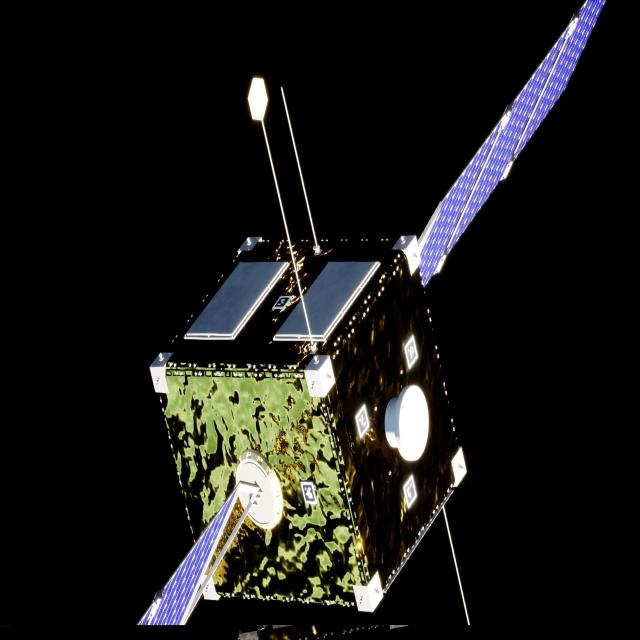medium_debris: (140, 0, 608, 631)
